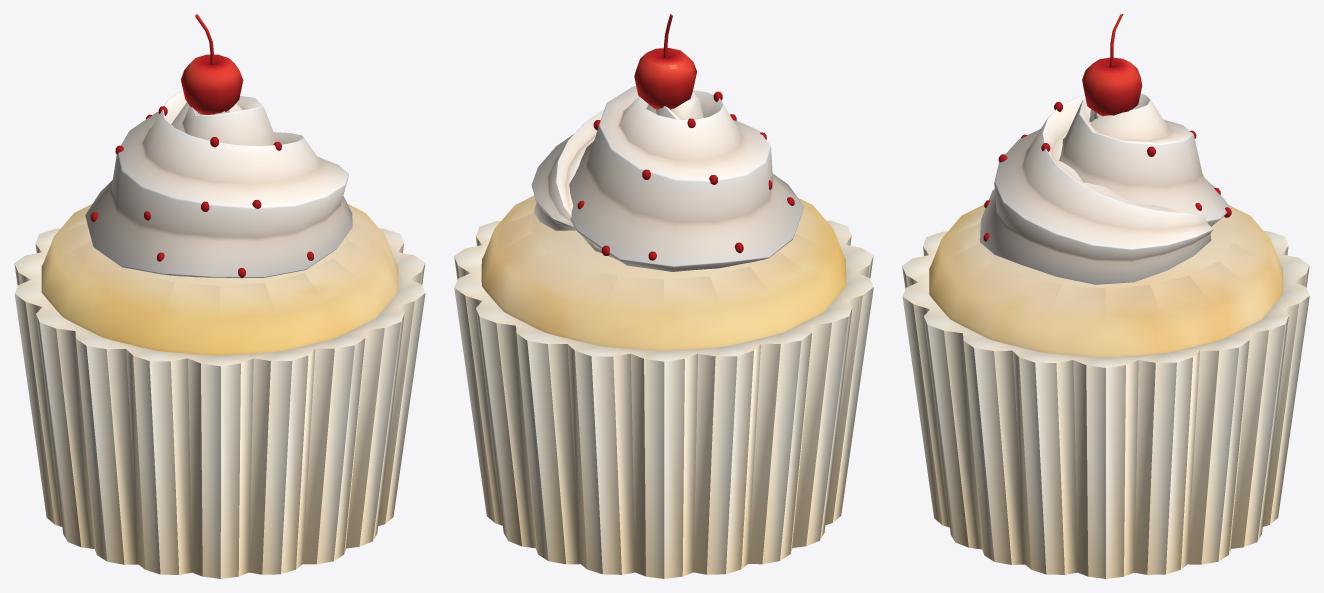
File: Doll_OB_Cake_001.fbx
3 views of the same model, side by side, from view 1: azimuth 30°, elevation 25°; view 2: azimuth 150°, elevation 25°; view 3: azimuth 270°, elevation 25° (orthographic). The views are drawn at different scales.
Visible parts, largest first — view 1: Doll_OB_Cake_001; view 2: Doll_OB_Cake_001; view 3: Doll_OB_Cake_001.
Part boxes in pixels (x1=…): Doll_OB_Cake_001: x1=14, y1=14, x2=425, y2=578; Doll_OB_Cake_001: x1=454, y1=14, x2=873, y2=578; Doll_OB_Cake_001: x1=902, y1=14, x2=1309, y2=578.
Bounding box in the file's own units: 0.8587 × 1.11 × 0.8462.
1 material, 1 textured.
